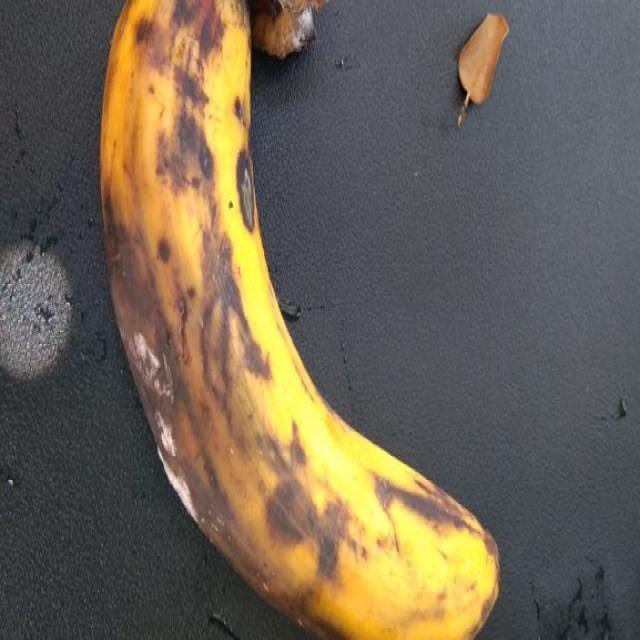Execivamente Madura: (96, 0, 503, 639)
